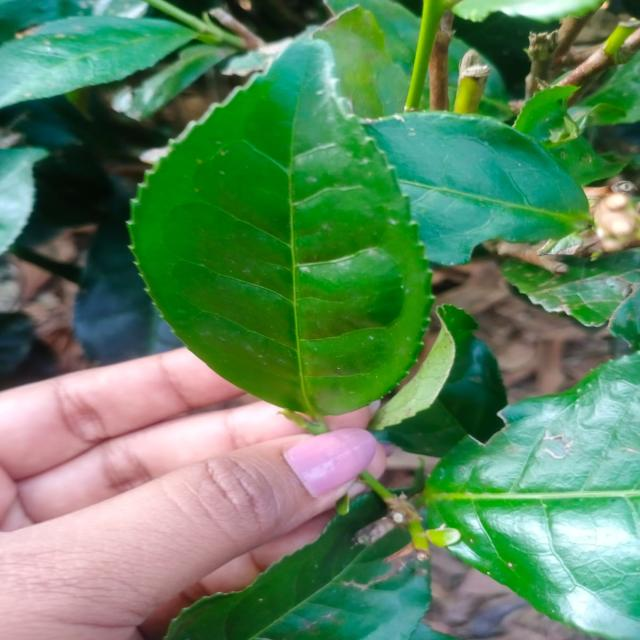Category D 7+ days, Not for Tea: (85, 25, 459, 439)
